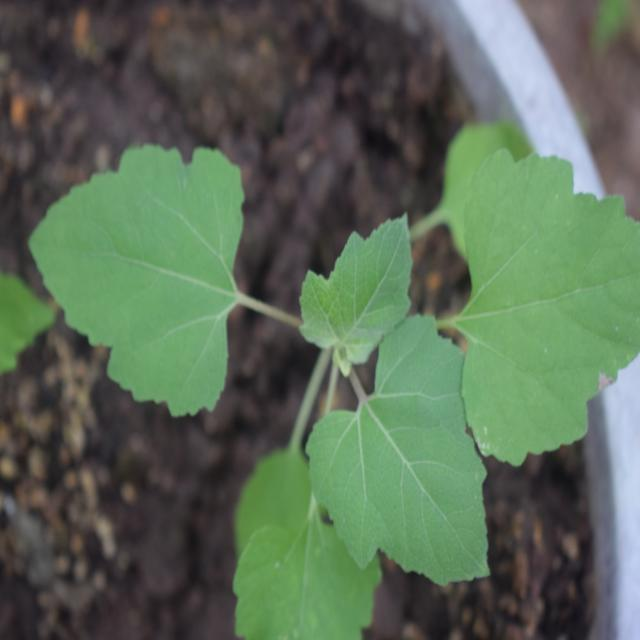cocklebur: (50, 122, 614, 600)
